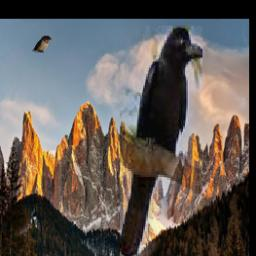Crow: (121, 26, 203, 256)
Swallow: (32, 35, 52, 52)
